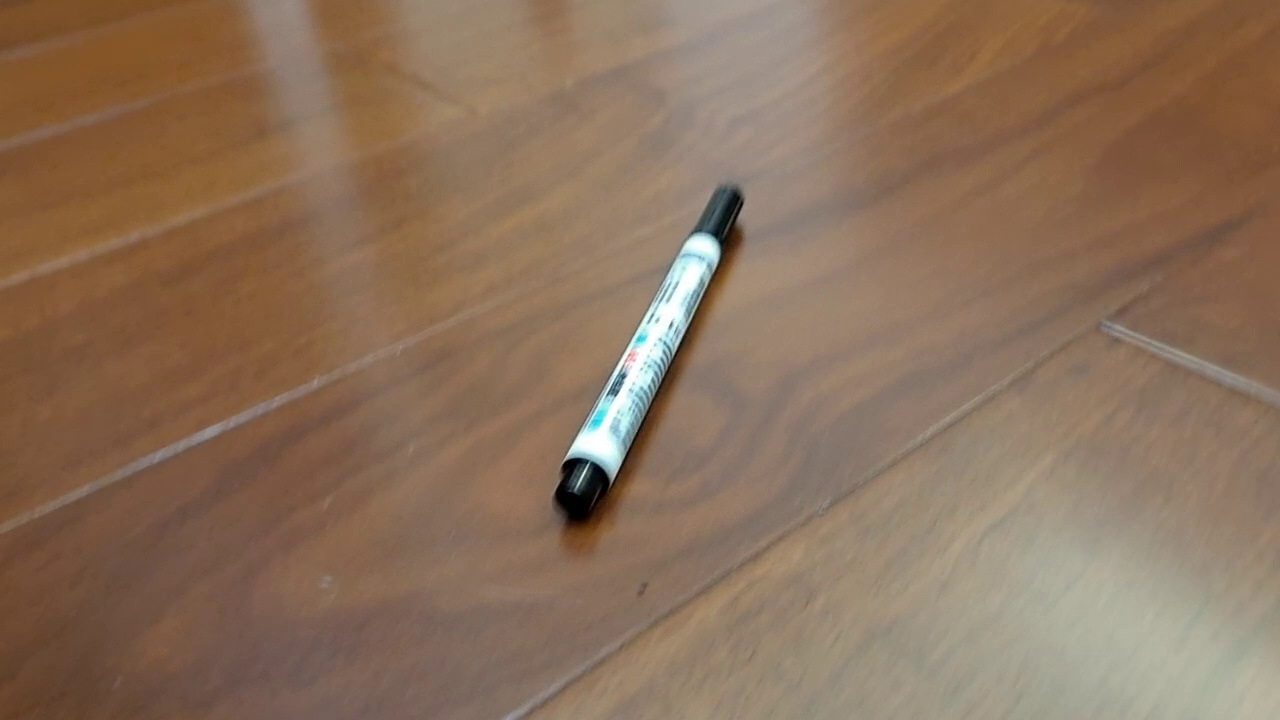pen: (552, 182, 745, 522)
